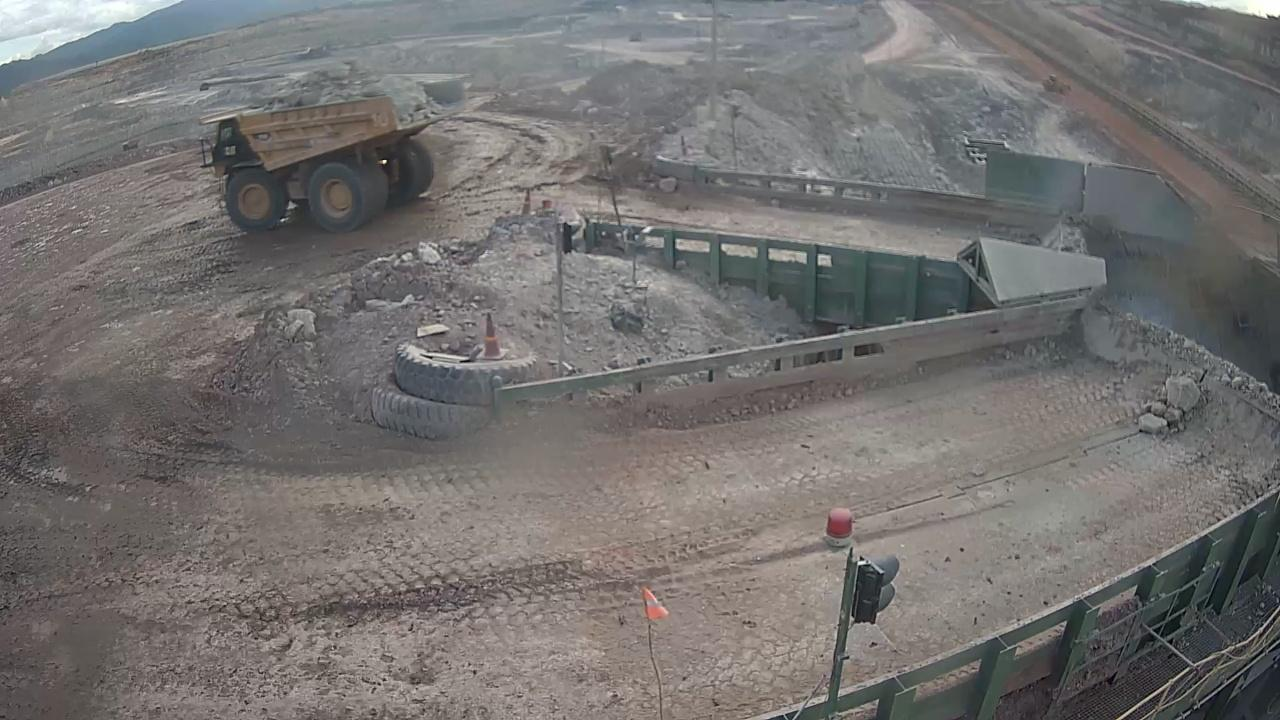mining_truck: (195, 83, 463, 234)
